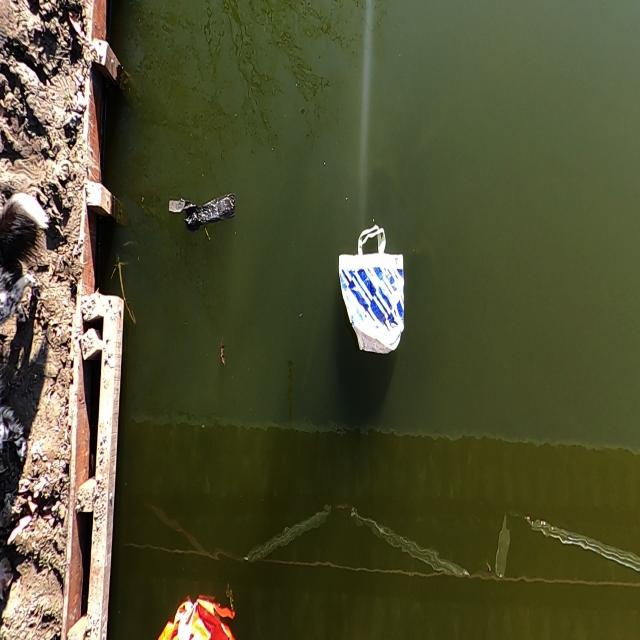Sac plastique: (334, 218, 412, 362), (165, 179, 238, 241)
